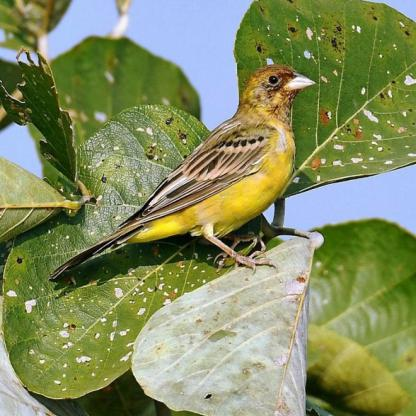Burung: (51, 65, 316, 278)
